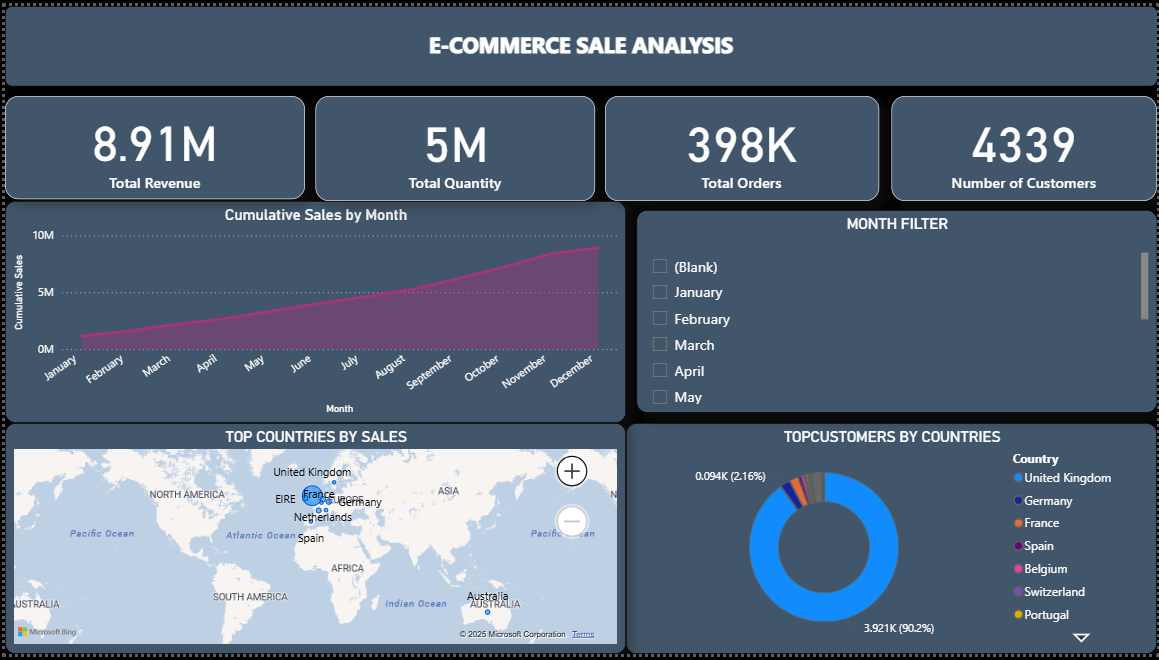

What the dashboard file says about the page in this screenshot:
{"tool":"powerbi","page":{"name":"Page 2","canvas":[1280,720],"ordinal":1},"visuals":[{"type":"donutChart","title":"TOPCUSTOMERS BY COUNTRIES","fields":{"Y":["ecomcleandata.Customers by Country"],"Category":["ecomcleandata.Country"]},"box":[690,463.3,590,256.7],"z":0},{"type":"areaChart","fields":{"Category":["monthly_sales.InvoiceDate.Variation.Date Hierarchy.Month"],"Y":["monthly_sales.Cumulative Sales"]},"box":[0,216.7,690,246.7],"z":1000},{"type":"textbox","box":[0,0,1280.8,89.1],"z":2000},{"type":"card","fields":{"Values":["ecomcleandata.Total Revenue"]},"box":[0,100.4,333.6,115],"z":3000},{"type":"card","fields":{"Values":["ecomcleandata.Total Quantity"]},"box":[344.9,100.4,310.9,116.6],"z":4000},{"type":"card","fields":{"Values":["ecomcleandata.Total Orders"]},"box":[667.1,100.4,304.4,116.6],"z":5000},{"type":"card","fields":{"Values":["ecomcleandata.Number of Customers"]},"box":[985.3,100.4,294.7,116.6],"z":6000},{"type":"map","title":"TOP COUNTRIES BY SALES","fields":{"Category":["top_country.Country"],"Size":["Sum(top_country.Total Price)"]},"box":[0,463.3,690,256.7],"z":7000},{"type":"slicer","title":"MONTH FILTER","fields":{"Values":["monthly_sales.InvoiceDate.Variation.Date Hierarchy.Month"]},"box":[701.7,226.7,578.3,225],"z":7001}]}

Visuals, with their boxes in screenshot pixels (x1, y1, x2, y2), scaled from the page's 1280x720 canvas onto the 1159x660 screenshot:
"TOPCUSTOMERS BY COUNTRIES" donutChart: <box>625,425,1158,659</box>
areaChart - monthly_sales.InvoiceDate.Variation.Date Hierarchy.Month x monthly_sales.Cumulative Sales: <box>0,199,625,425</box>
textbox: <box>0,0,1158,82</box>
card - ecomcleandata.Total Revenue: <box>0,92,302,197</box>
card - ecomcleandata.Total Quantity: <box>312,92,594,199</box>
card - ecomcleandata.Total Orders: <box>604,92,880,199</box>
card - ecomcleandata.Number of Customers: <box>892,92,1158,199</box>
"TOP COUNTRIES BY SALES" map: <box>0,425,625,659</box>
"MONTH FILTER" slicer: <box>635,208,1158,414</box>
